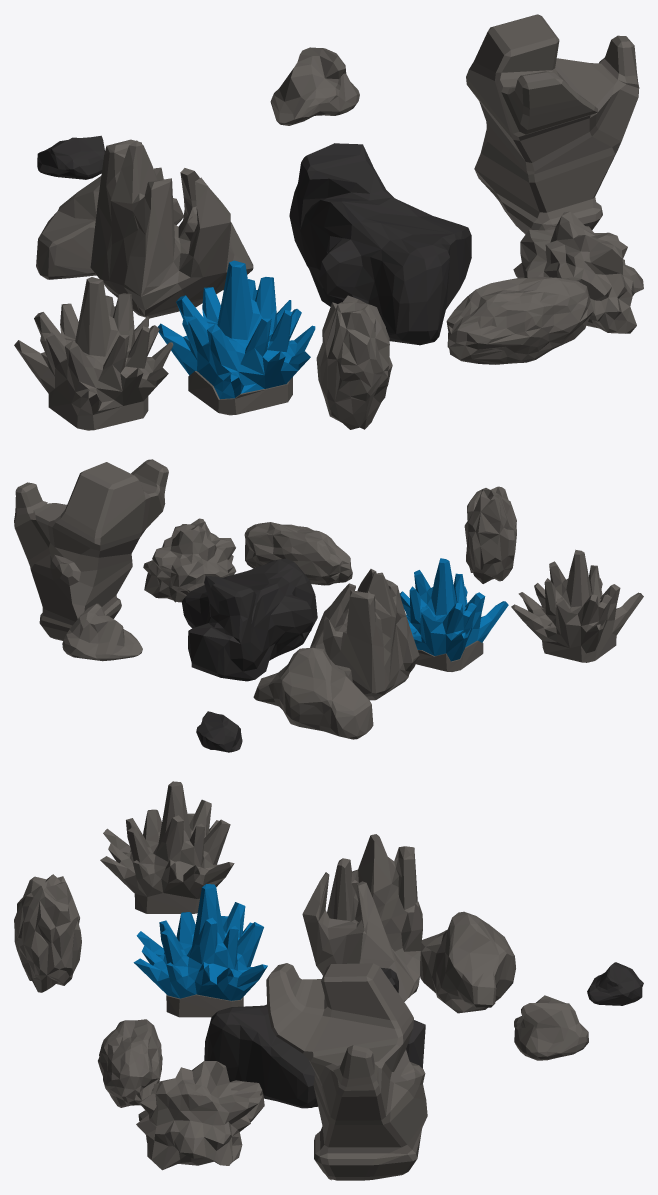
The model's file is RockPack.obj.
The picture shows the model from 3 angles, top to bottom: view 1: azimuth 30°, elevation 25°; view 2: azimuth 150°, elevation 25°; view 3: azimuth 270°, elevation 25°; orthographic projection. The views are drawn at different scales.
Parts seen in each view (by area): view 1: Rock5_Cube.028, Rock6_Cube.026, Rock4_Cube.013, Stone_Cube.031, Rock7_Cube.029, Rock9_Cube.032, Rock8_Cube.033, Rock10_Cube.030, Rock2_Sphere, Rock3_Plane.009, Rock1_Plane.037; view 2: Rock5_Cube.028, Rock6_Cube.026, Rock4_Cube.013, Rock7_Cube.029, Stone_Cube.031, Rock3_Plane.009, Rock8_Cube.033, Rock9_Cube.032, Rock10_Cube.030, Rock2_Sphere, Rock1_Plane.037; view 3: Rock5_Cube.028, Rock4_Cube.013, Stone_Cube.031, Rock7_Cube.029, Rock8_Cube.033, Rock6_Cube.026, Rock3_Plane.009, Rock10_Cube.030, Rock9_Cube.032, Rock2_Sphere, Rock1_Plane.037.
Boxes of the visible parts, x1,y1,x2,y2 form: Rock5_Cube.028: (466,14,639,234); Rock6_Cube.026: (289,143,471,345); Rock4_Cube.013: (90,139,253,318); Stone_Cube.031: (158,260,315,415); Rock7_Cube.029: (14,277,173,430); Rock9_Cube.032: (446,276,593,364); Rock8_Cube.033: (513,211,643,333); Rock10_Cube.030: (316,295,392,429); Rock2_Sphere: (270,47,359,125); Rock3_Plane.009: (36,176,183,279); Rock1_Plane.037: (37,135,104,179); Rock5_Cube.028: (14,459,168,640); Rock6_Cube.026: (181,558,317,681); Rock4_Cube.013: (310,569,419,700); Rock7_Cube.029: (511,549,643,662); Stone_Cube.031: (399,558,508,671); Rock3_Plane.009: (253,647,373,739); Rock8_Cube.033: (143,518,236,602); Rock9_Cube.032: (244,522,352,585); Rock10_Cube.030: (464,486,516,583); Rock2_Sphere: (62,603,142,661); Rock1_Plane.037: (196,711,242,752); Rock5_Cube.028: (266,963,427,1180); Rock4_Cube.013: (302,834,422,1001); Stone_Cube.031: (133,884,267,1017); Rock7_Cube.029: (100,781,234,913); Rock8_Cube.033: (136,1061,264,1170); Rock6_Cube.026: (204,968,425,1108); Rock3_Plane.009: (420,911,515,1013); Rock10_Cube.030: (14,874,81,992); Rock9_Cube.032: (98,1019,162,1107); Rock2_Sphere: (514,995,588,1060); Rock1_Plane.037: (587,962,643,1005).
Bounding box in the file's own units: 27.94 × 8.89 × 24.65.
